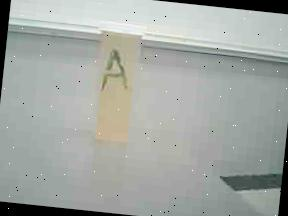Bottle A: (80, 12, 152, 160)
